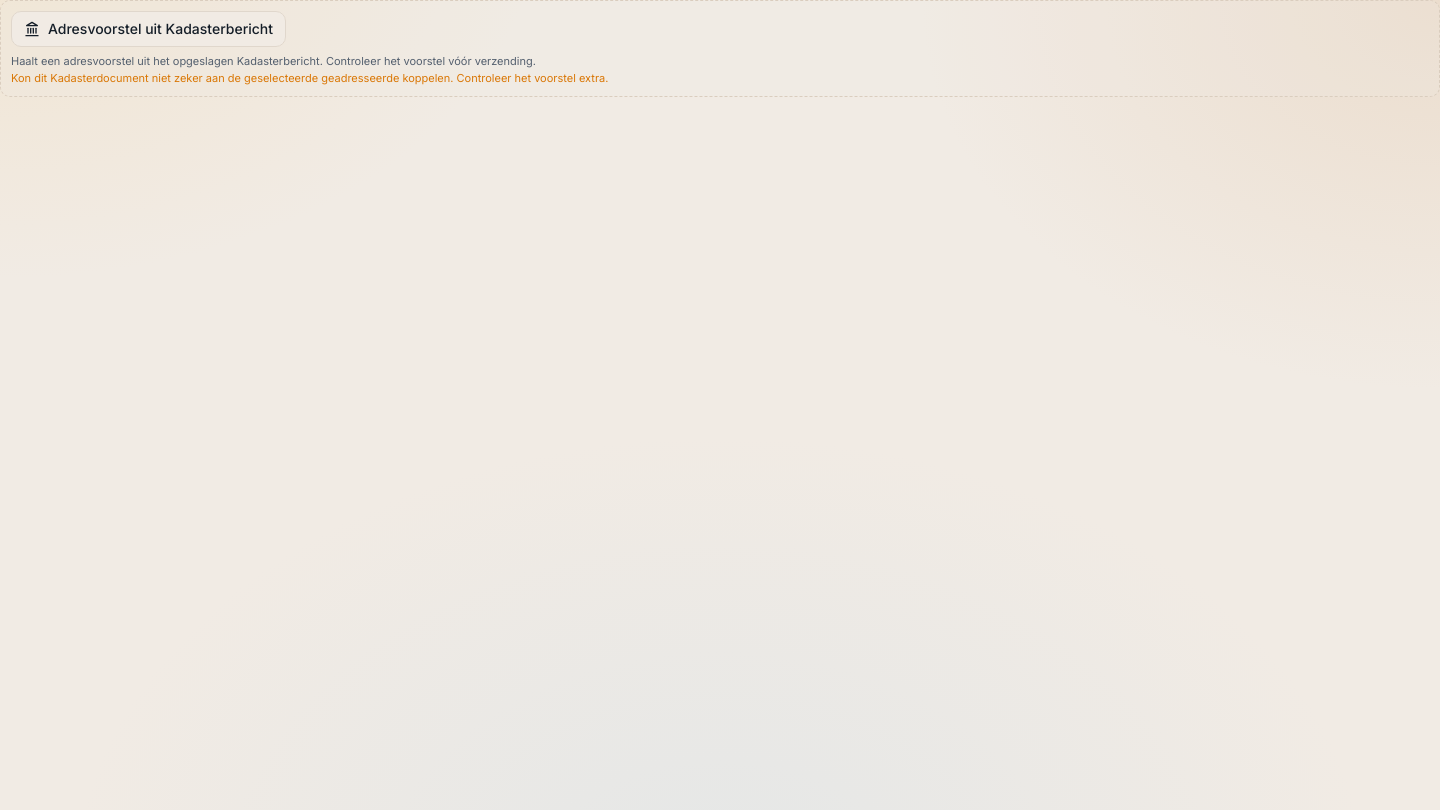
Test: KadasterPdfAdresVoorstelPanel › filtert voorstellen met lage confidence of zonder adres weg
Click the button with test id "kpv-start-knop": (148, 29) [11, 11, 286, 47]
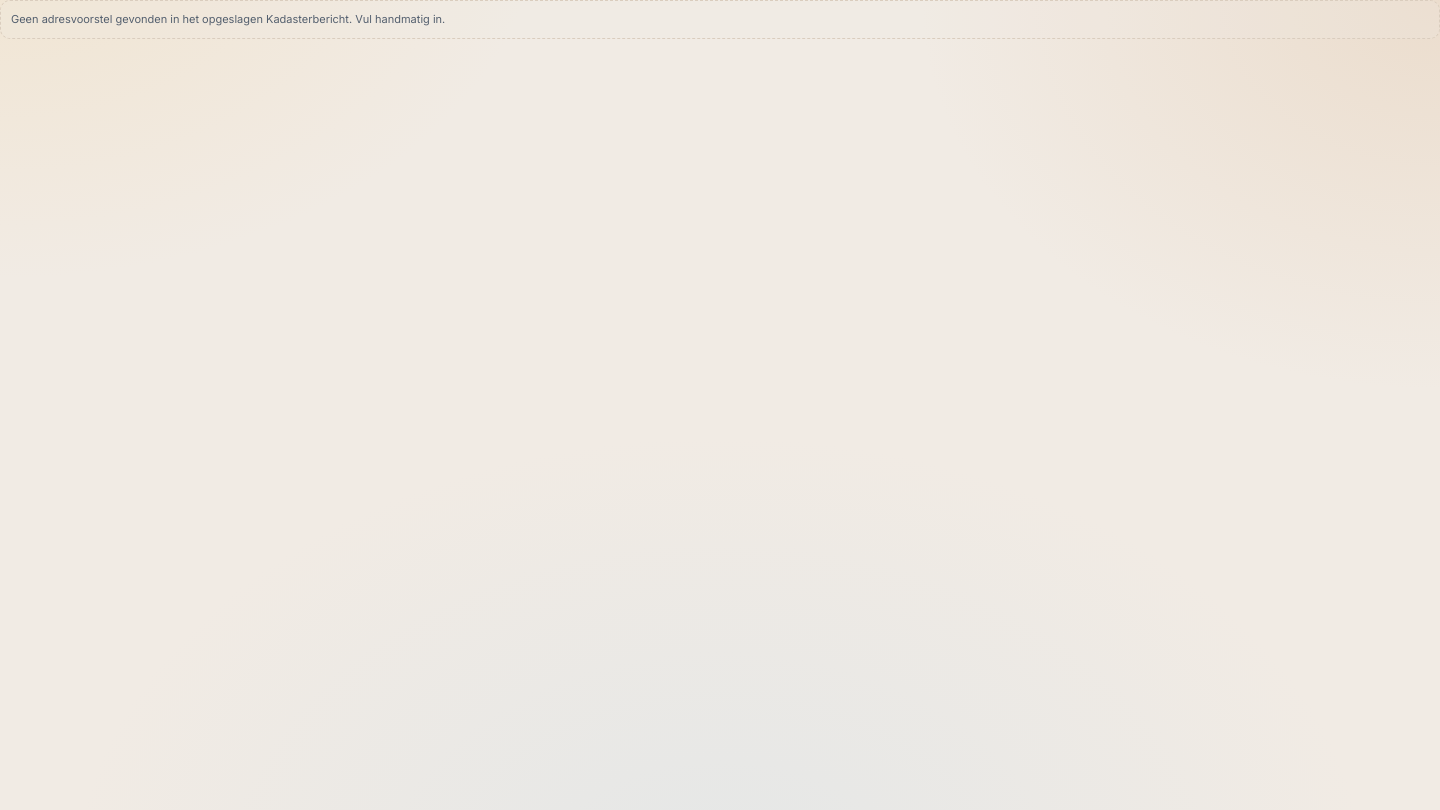
Expected: the text with test id "kpv-leeg" is shown, [11, 12, 445, 26]
